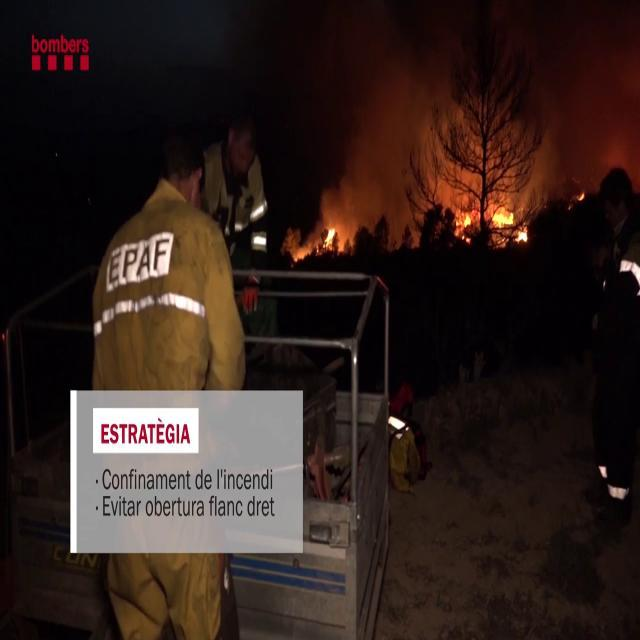Fire: (488, 198, 528, 244), (320, 218, 348, 258)
Smoke: (318, 0, 640, 216)
